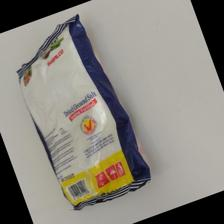Salt: (15, 14, 154, 211)
